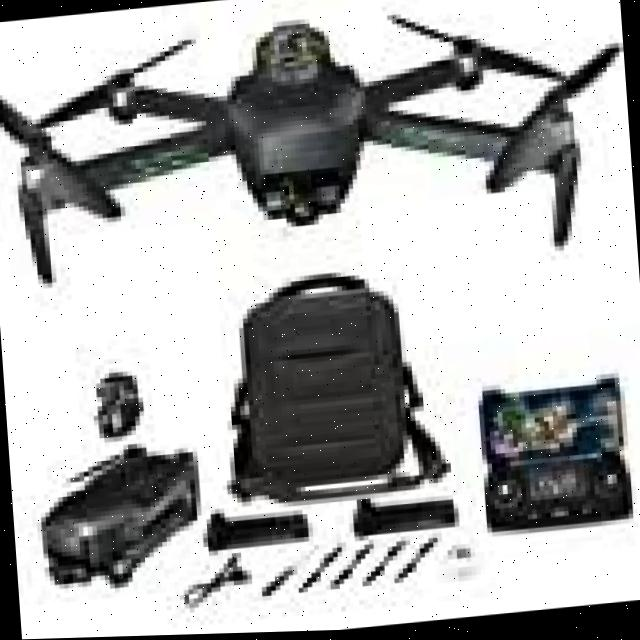drone: (0, 0, 637, 316)
